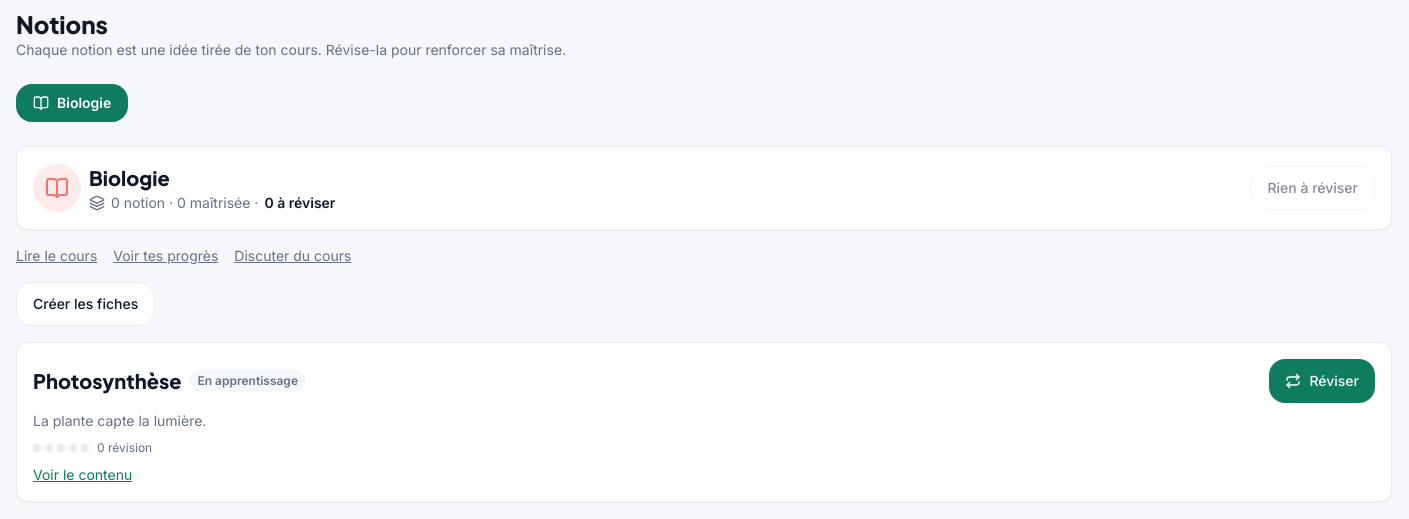
Test case: NotionsScreen › generation: a 409 'in-progress' is not an error — it shows the running state
Click the button "Créer les fiches": (86,304) [16,282,155,326]
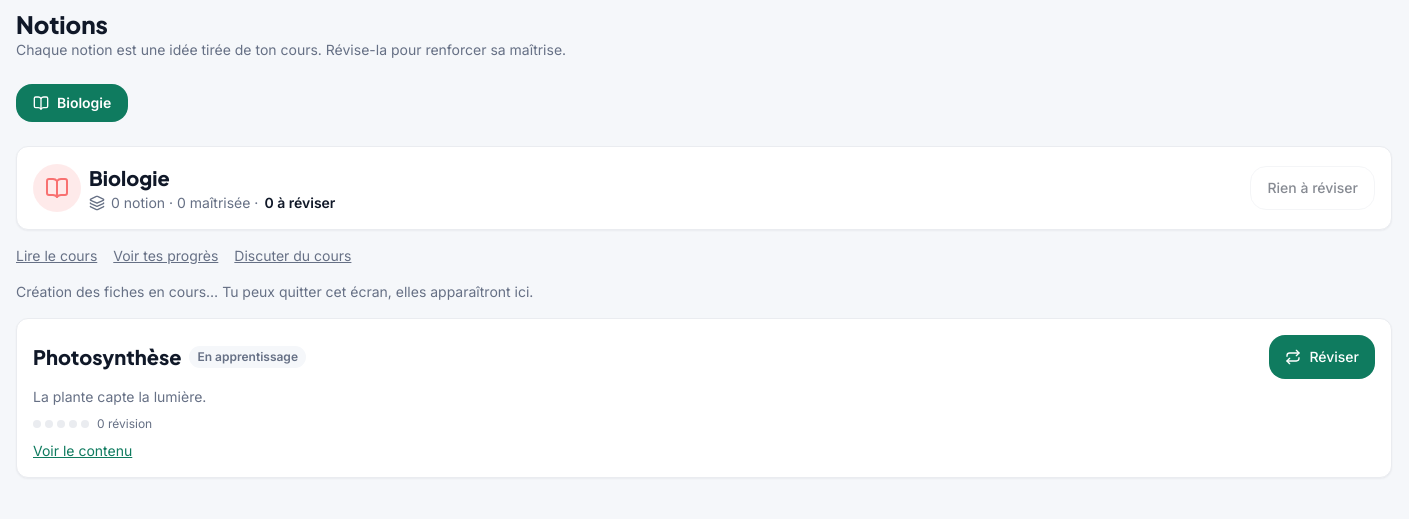
Expected: the text "Création des fiches en cours" is shown, [16,283,533,300]
